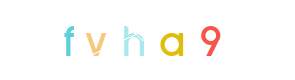9: (171, 0, 251, 80)
A: (133, 0, 213, 80)
F: (64, 0, 144, 80)
H: (107, 0, 187, 80)
V: (84, 0, 164, 80)
